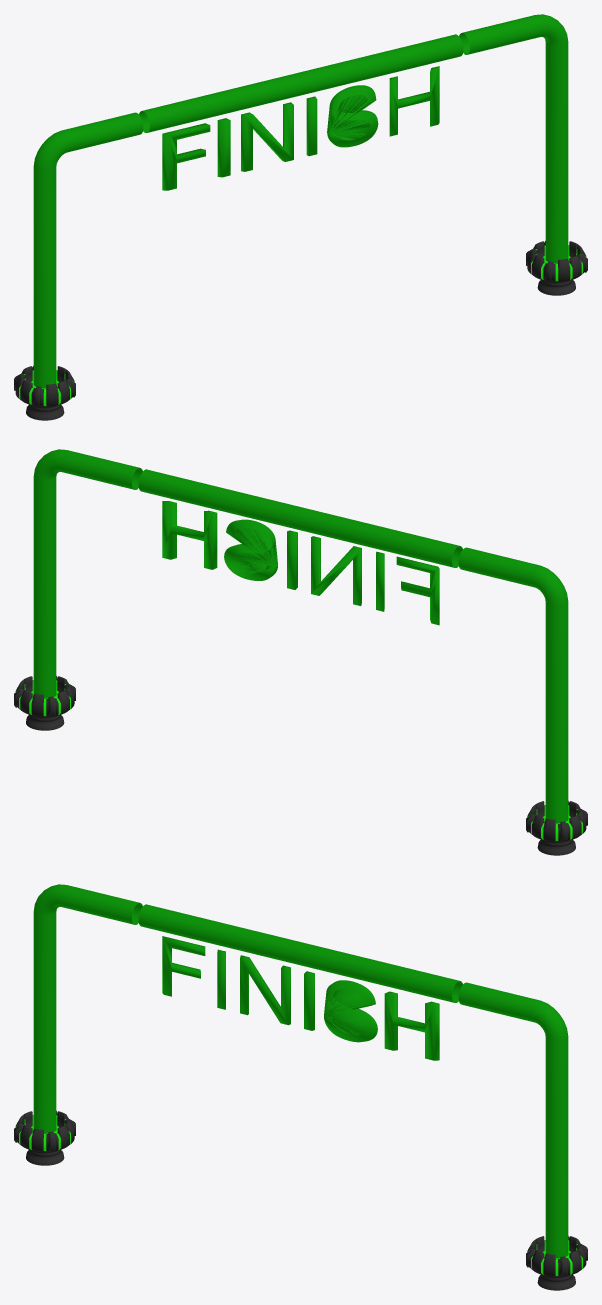
File: Checkpoint.fbx
3 views of the same model, one above another, from view 1: azimuth 30°, elevation 25°; view 2: azimuth 150°, elevation 25°; view 3: azimuth 330°, elevation 25° (orthographic).
Parts seen in each view (by area): view 1: End, Start, Finish, Bar; view 2: End, Start, Finish, Bar; view 3: Start, End, Finish, Bar.
Boxes of the visible parts, x1,y1,x2,y2 form: End: [14, 112, 143, 420]; Start: [459, 14, 587, 295]; Finish: [162, 66, 439, 190]; Bar: [139, 34, 463, 132]; End: [458, 547, 587, 855]; Start: [14, 449, 142, 730]; Finish: [162, 501, 439, 625]; Bar: [138, 469, 462, 567]; Start: [458, 982, 587, 1290]; End: [14, 884, 142, 1165]; Finish: [162, 936, 439, 1060]; Bar: [138, 904, 462, 1002].
Bounding box in the file's own units: 1100 × 516 × 100.
